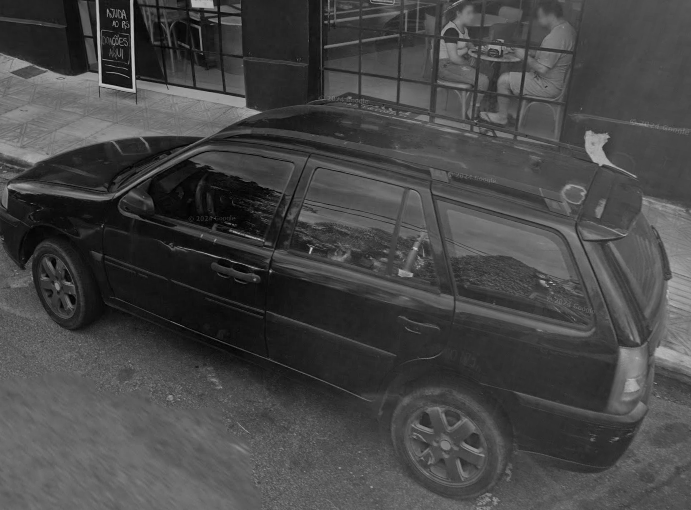car: (2, 95, 676, 499)
